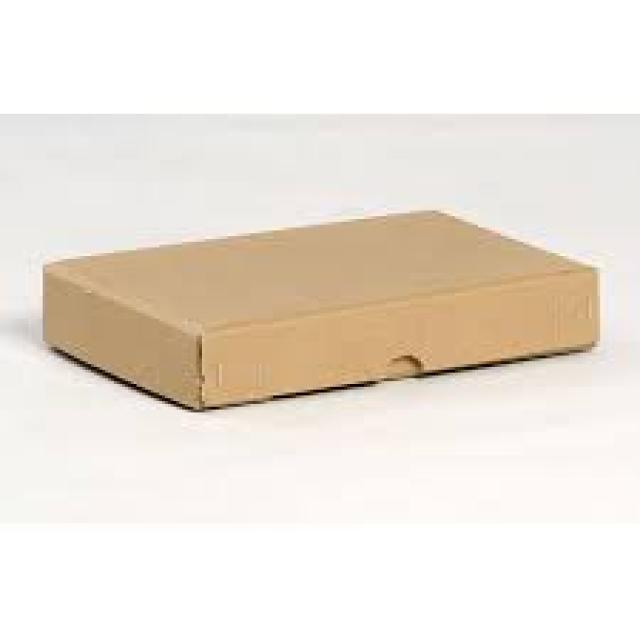cardboard: (40, 208, 597, 413)
